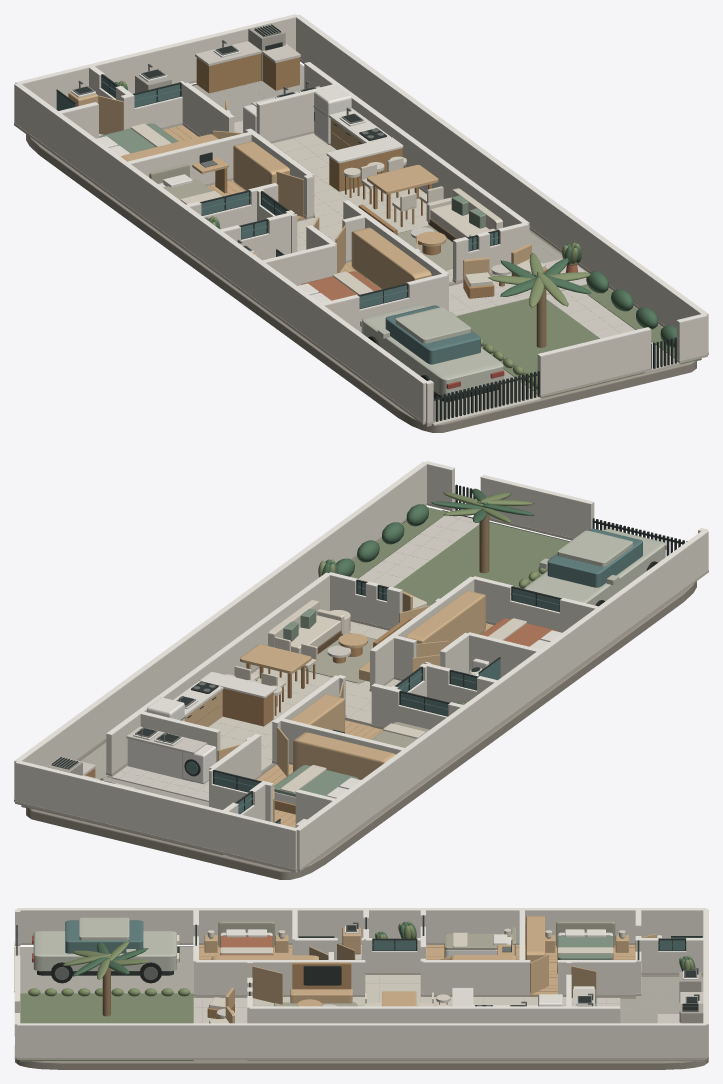
Rendered from planta-03.glb.
3 views of the same model, one above another, from view 1: azimuth 30°, elevation 25°; view 2: azimuth 150°, elevation 25°; view 3: azimuth 270°, elevation 25° (orthographic). The views are drawn at different scales.
Visible parts, largest first — view 1: Limite esquerdo, Limite direito, Lote 8 × 20 m, Fechamento frontal (×2), Jardim frontal, Fundo, Piso social, Carro • carroceria, Armário quarto 01, Parede lateral social, Limite esquerdo • topo, Limite direito • topo (+35 smaller); view 2: Limite esquerdo, Limite direito, Fundo, Lote 8 × 20 m, Jardim frontal, Fechamento frontal (×2), Piso social, Parede lateral social, Caminho de entrada, Armário suíte, Limite esquerdo • topo, Limite direito • topo (+37 smaller); view 3: Limite direito, Limite esquerdo, Lote 8 × 20 m, Parede lateral social, Jardim frontal, Garagem, Quarto 02 • cozinha, Carro • carroceria, Quarto 01 • estar, Limite esquerdo • topo, Limite direito • topo, Quintal (+48 smaller).
Part boxes in pixels (x1,y1,x2,y2): Limite esquerdo: (14, 85, 425, 421); Limite direito: (296, 18, 708, 352); Lote 8 × 20 m: (26, 83, 696, 432); Fechamento frontal (×2): (537, 316, 707, 394); Jardim frontal: (457, 298, 644, 397); Fundo: (22, 18, 295, 109); Piso social: (272, 133, 454, 284); Carro • carroceria: (361, 304, 503, 396); Armário quarto 01: (351, 227, 431, 289); Parede lateral social: (304, 64, 529, 243); Limite esquerdo • topo: (14, 83, 427, 384); Limite direito • topo: (296, 14, 708, 315); Limite esquerdo: (297, 532, 708, 868); Limite direito: (14, 465, 426, 799); Fundo: (15, 763, 296, 869); Lote 8 × 20 m: (26, 510, 696, 879); Jardim frontal: (393, 522, 569, 605); Fechamento frontal (×2): (427, 465, 594, 538); Piso social: (208, 621, 388, 772); Parede lateral social: (106, 576, 329, 773); Caminho de entrada: (358, 515, 479, 587); Armário suíte: (293, 732, 395, 779); Limite esquerdo • topo: (295, 530, 708, 831); Limite direito • topo: (14, 461, 427, 762); Limite direito: (17, 1026, 705, 1057); Limite esquerdo: (20, 911, 703, 942); Lote 8 × 20 m: (15, 946, 708, 1069); Parede lateral social: (250, 1009, 620, 1023); Jardim frontal: (20, 993, 193, 1023); Garagem: (20, 947, 193, 993); Quarto 02 • cozinha: (423, 963, 522, 994); Carro • carroceria: (33, 931, 176, 971); Quarto 01 • estar: (196, 963, 365, 994); Limite esquerdo • topo: (17, 908, 706, 910); Limite direito • topo: (17, 1023, 706, 1025); Quintal: (636, 977, 703, 1061).
Bounding box in the file's own units: 8.01 × 2.21 × 20.03.
